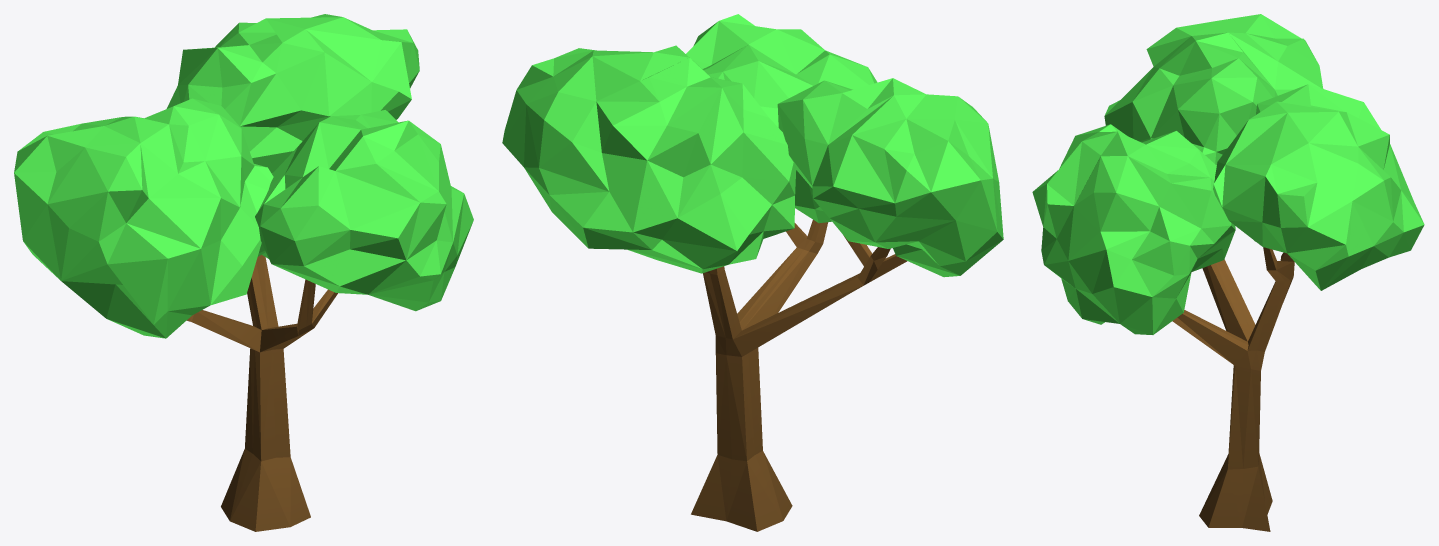
Rendered from treeNew.obj.
The picture shows the model from 3 angles, left to right: view 1: azimuth 30°, elevation 25°; view 2: azimuth 150°, elevation 25°; view 3: azimuth 270°, elevation 25°; orthographic projection. The views are drawn at different scales.
Parts seen in each view (by area): view 1: Tree_average_regular_Cube.002; view 2: Tree_average_regular_Cube.002; view 3: Tree_average_regular_Cube.002.
Part boxes in pixels (x1,y1,x2,y2): Tree_average_regular_Cube.002: (14, 14, 473, 531); Tree_average_regular_Cube.002: (502, 14, 1003, 531); Tree_average_regular_Cube.002: (1032, 14, 1424, 531).
Bounding box in the file's own units: 3.06 × 3.04 × 2.5.
